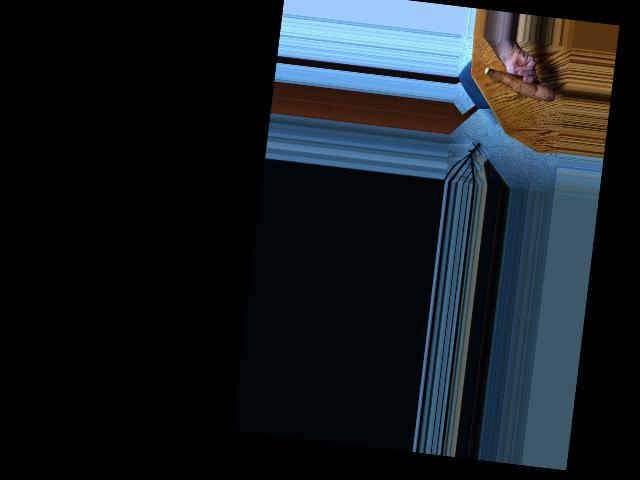sweet_potato: (480, 63, 555, 104)
